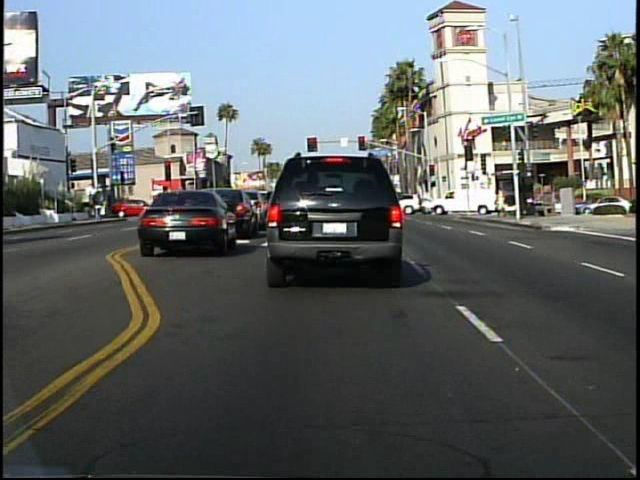person: (490, 183, 508, 221)
